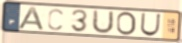3: (70, 9, 89, 33)
A: (17, 5, 47, 31)
C: (46, 8, 65, 32)
O: (115, 11, 138, 36)
U: (90, 9, 115, 35), (139, 12, 162, 37)
